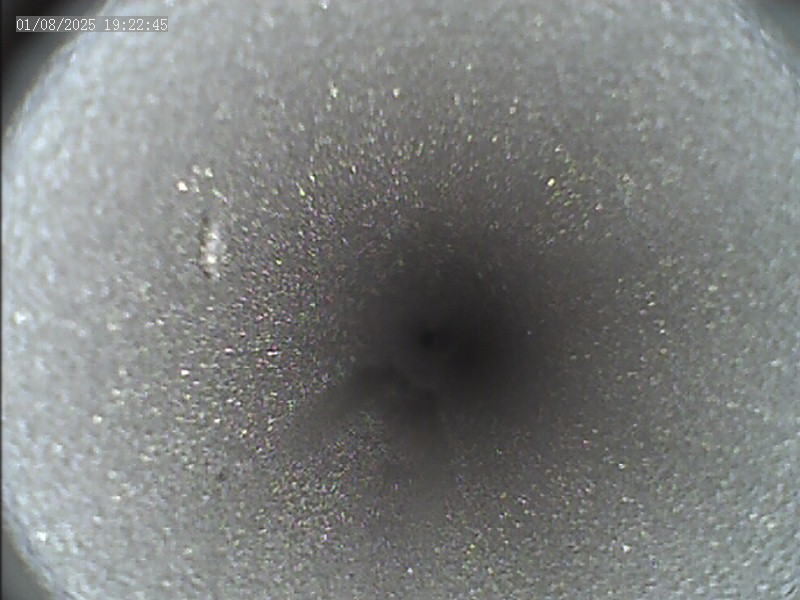defective_area: (173, 168, 224, 278)
